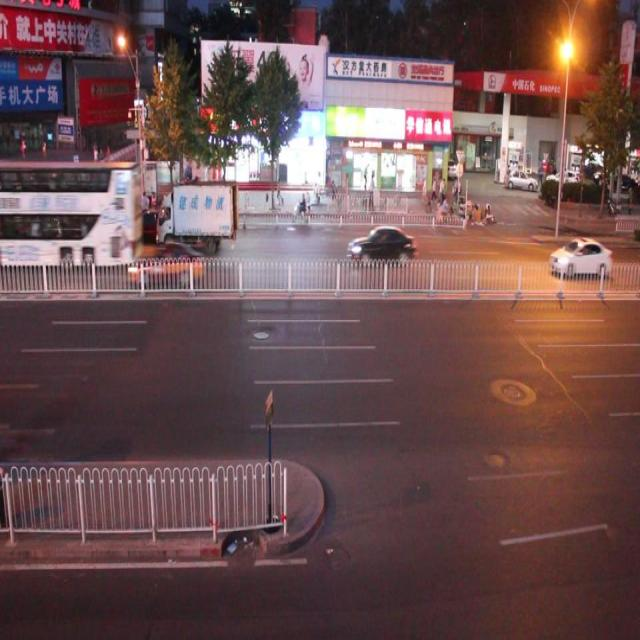bus: (153, 184, 240, 259)
car: (129, 242, 207, 288), (347, 224, 416, 268), (549, 235, 612, 278), (120, 210, 182, 251), (13, 204, 69, 248), (86, 200, 129, 242), (47, 183, 80, 219)
van: (1, 160, 140, 269)
